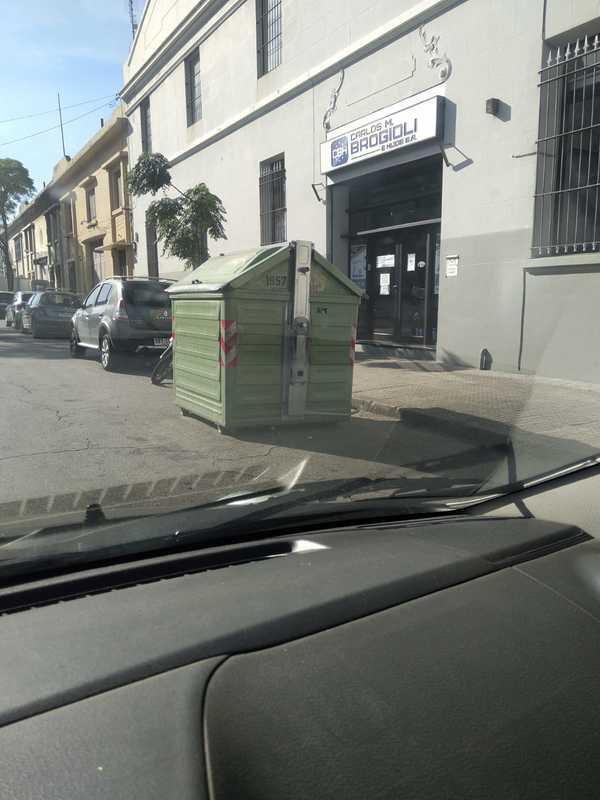Trash: (170, 241, 360, 433)
